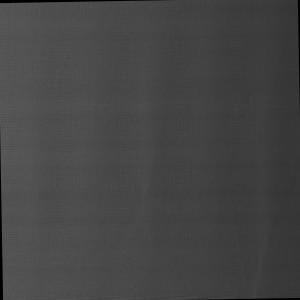Wrinkle: (237, 1, 300, 299)
